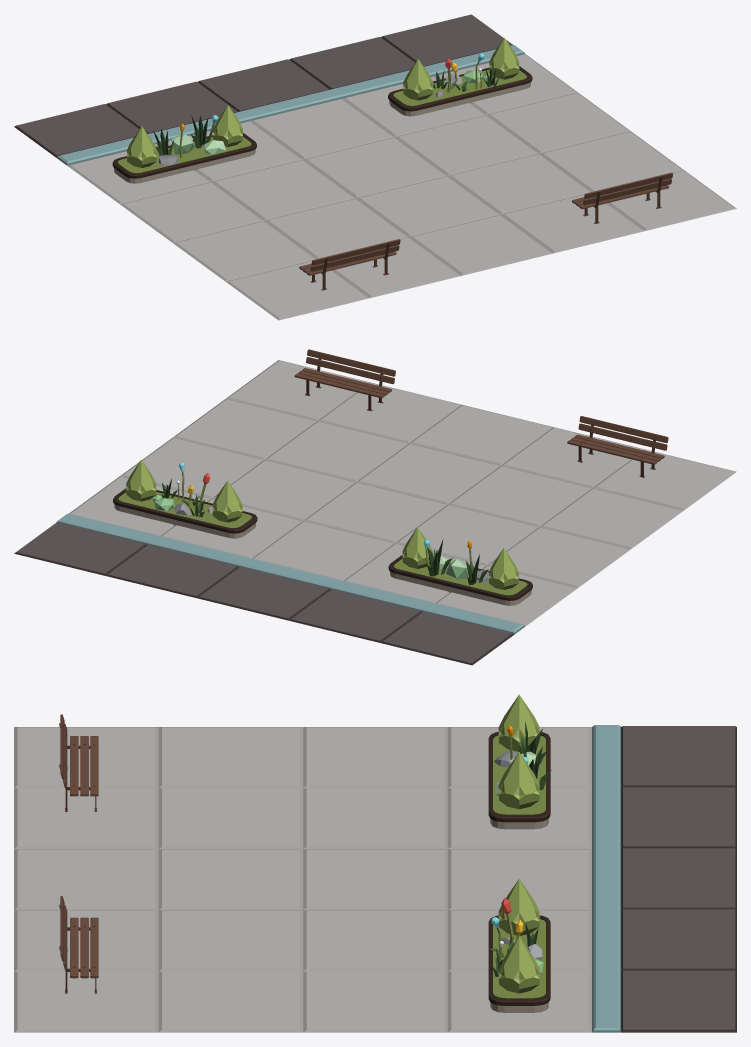
File: OpenRoad_B.glb
3 renders of one model, top to bottom at view 1: azimuth 30°, elevation 25°; view 2: azimuth 150°, elevation 25°; view 3: azimuth 270°, elevation 25°, orthographic. The views are drawn at different scales.
Visible parts, largest first — view 1: OpenRoad_B, Cube.259, Cube.258, Bench_01.005, Bench_01.006, Cone.132, Cone.131, Cone.133, Cone.130; view 2: OpenRoad_B, Cube.259, Bench_01.006, Bench_01.005, Cube.258, Cone.133, Cone.132, Cone.131, Cone.130; view 3: OpenRoad_B, Cube.259, Cube.258, Bench_01.005, Bench_01.006, Cone.130, Cone.133, Cone.131, Cone.132.
Part boxes in pixels (x1=…): OpenRoad_B: x1=14, y1=14, x2=736, y2=320; Cube.259: x1=388, y1=66, x2=532, y2=116; Cube.258: x1=112, y1=133, x2=256, y2=183; Bench_01.005: x1=572, y1=172, x2=672, y2=223; Bench_01.006: x1=299, y1=239, x2=400, y2=290; Cone.132: x1=403, y1=59, x2=433, y2=100; Cone.131: x1=127, y1=126, x2=156, y2=167; Cone.133: x1=489, y1=38, x2=519, y2=79; Cone.130: x1=213, y1=105, x2=242, y2=146; OpenRoad_B: x1=14, y1=360, x2=736, y2=665; Cube.259: x1=113, y1=488, x2=257, y2=538; Bench_01.006: x1=567, y1=416, x2=668, y2=477; Bench_01.005: x1=294, y1=349, x2=395, y2=411; Cube.258: x1=388, y1=555, x2=532, y2=605; Cone.133: x1=126, y1=459, x2=156, y2=501; Cone.132: x1=212, y1=481, x2=242, y2=522; Cone.131: x1=489, y1=548, x2=518, y2=589; Cone.130: x1=402, y1=527, x2=432, y2=568; OpenRoad_B: x1=14, y1=725, x2=736, y2=1032; Cube.259: x1=488, y1=915, x2=550, y2=1012; Cube.258: x1=488, y1=732, x2=550, y2=829; Bench_01.005: x1=59, y1=896, x2=98, y2=993; Bench_01.006: x1=59, y1=714, x2=98, y2=811; Cone.130: x1=498, y1=752, x2=539, y2=809; Cone.133: x1=498, y1=936, x2=539, y2=993; Cone.131: x1=498, y1=694, x2=539, y2=751; Cone.132: x1=498, y1=879, x2=539, y2=935.
Size of what is drawn, in the model's own units: 16 by 1.59 by 16.
Materials: 2 (2 with a texture image).
